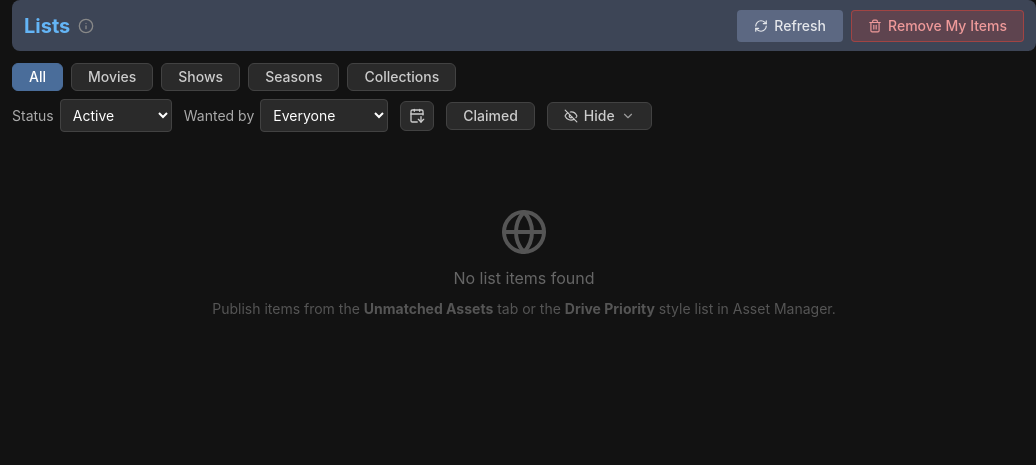
Scenario: Lists page: Reject › shows the saved reason on a rejected item
Select "Rejected" in the dropdown with class "community-status-select" at (116, 116), box [60,99,172,132]
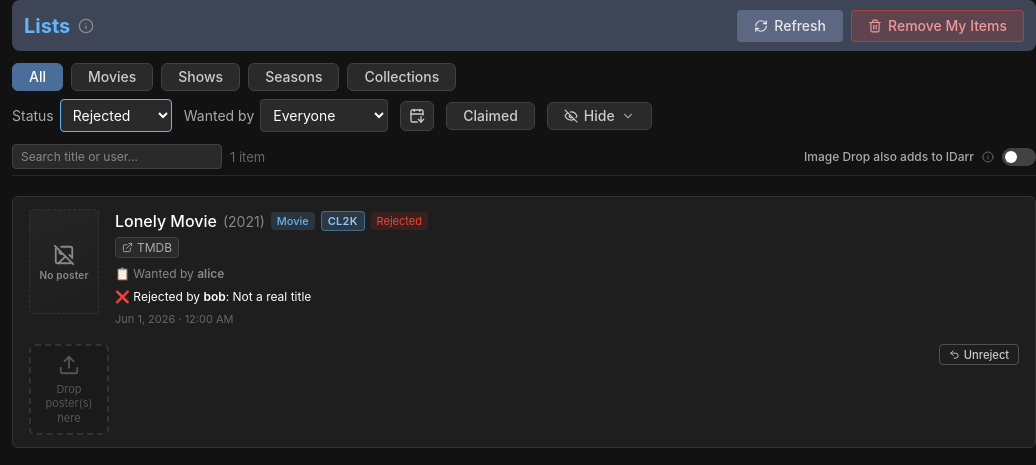
Result: the text "Lonely Movie" is shown at [115,211,217,231]
Result: the text "❌ Rejected by bob: Not a real title" is shown at [115,289,311,304]
